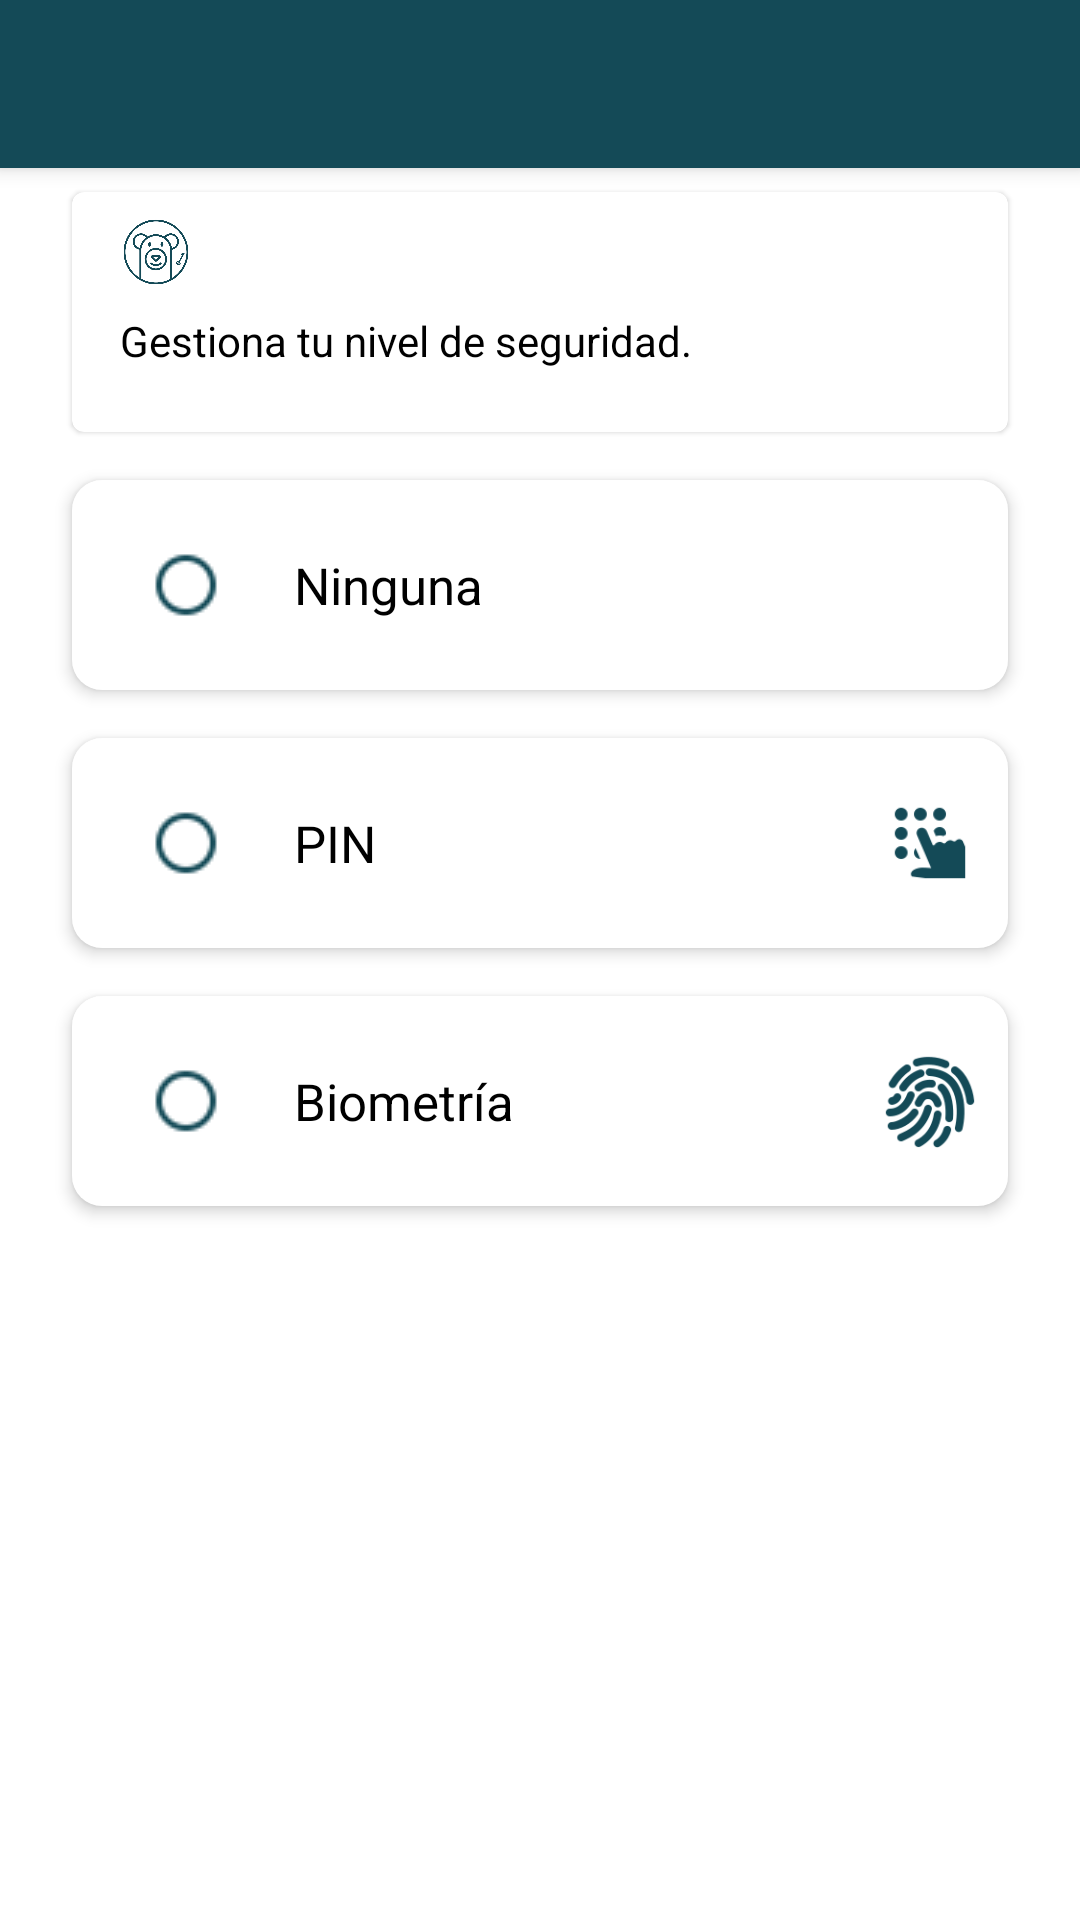

Named icons in this screenshot (1080 × 1920) and their bounding boxes, rect(x1, y1, x2, y2):
custom radio: rect(155, 554, 217, 616), rect(155, 812, 217, 874), rect(155, 1070, 217, 1132)
finger: rect(885, 1056, 975, 1148)
pin: rect(894, 807, 966, 879)
